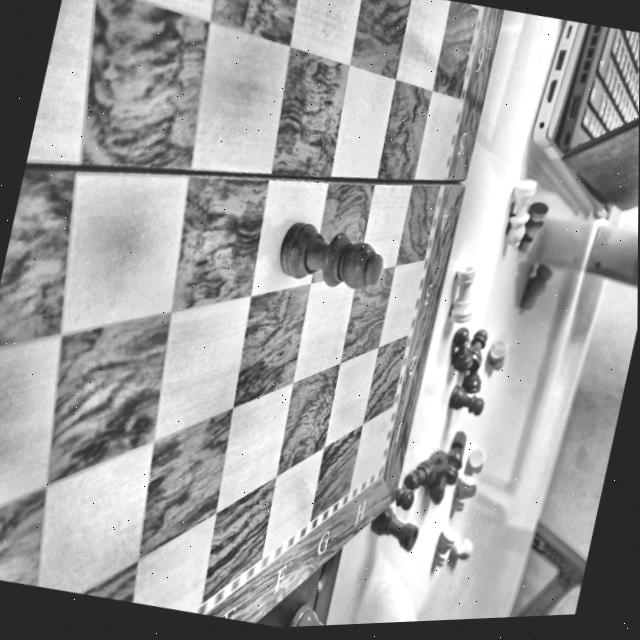black-bishop: (266, 201, 399, 323)
